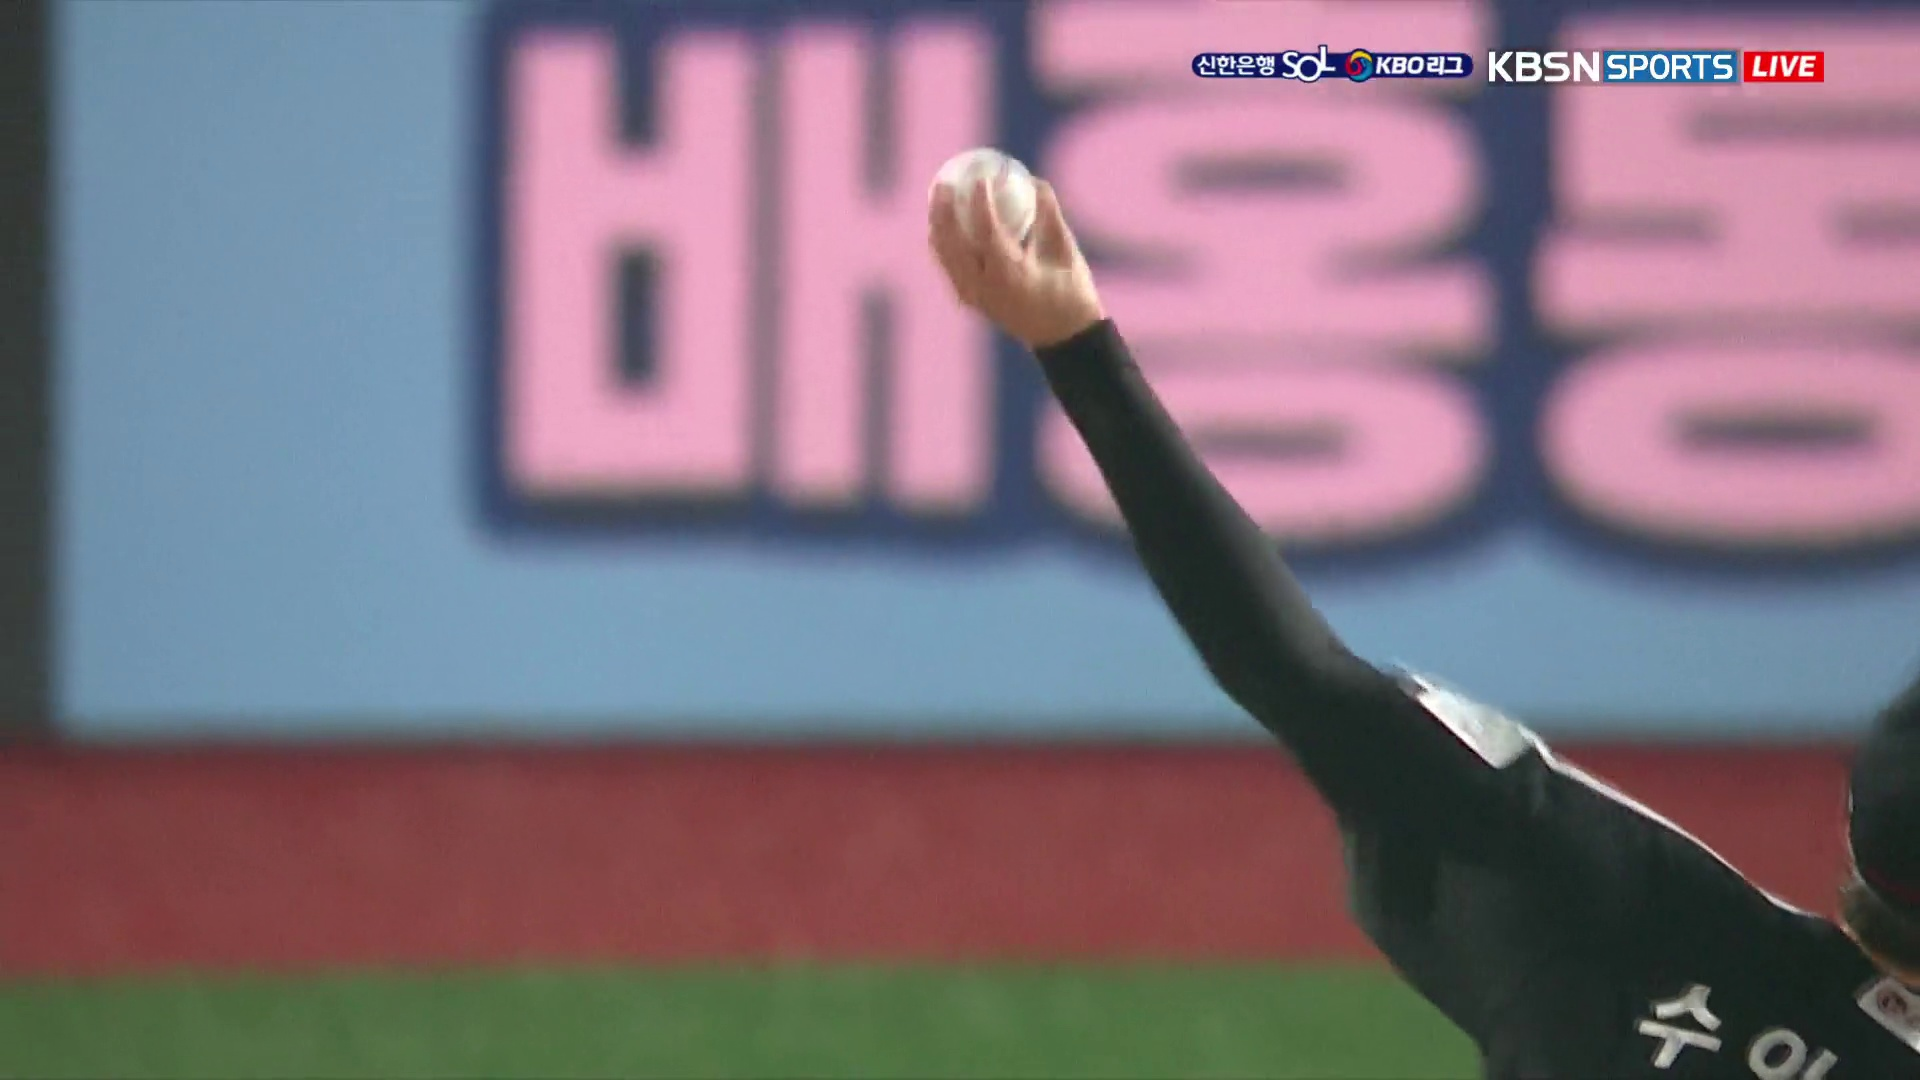zoomin_hand: (918, 141, 1356, 732)
